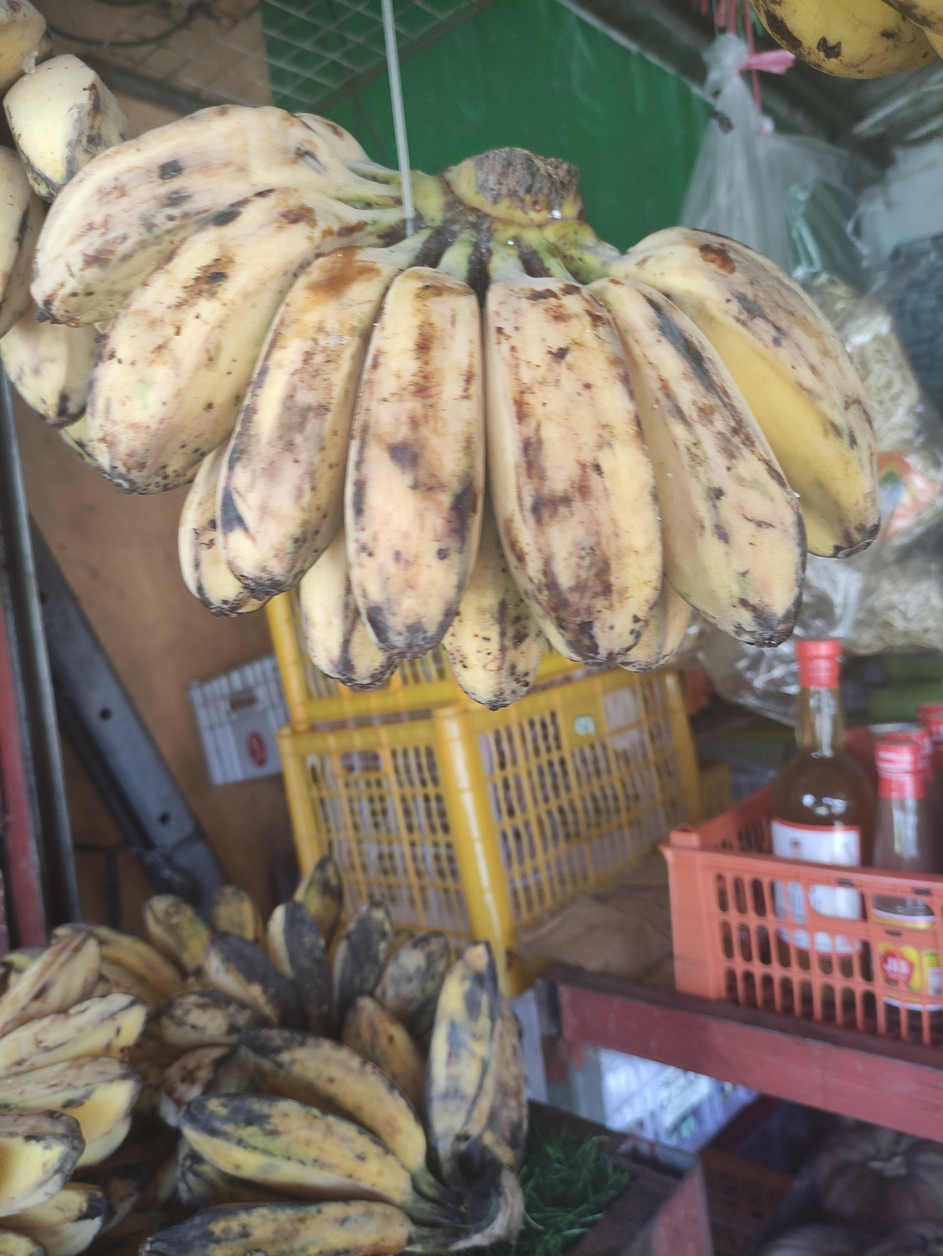overripe: (160, 902, 452, 1126)
ripe: (32, 106, 879, 707), (140, 943, 527, 1256), (0, 0, 129, 459), (0, 931, 148, 1256)
underripe: (51, 885, 264, 1011)
